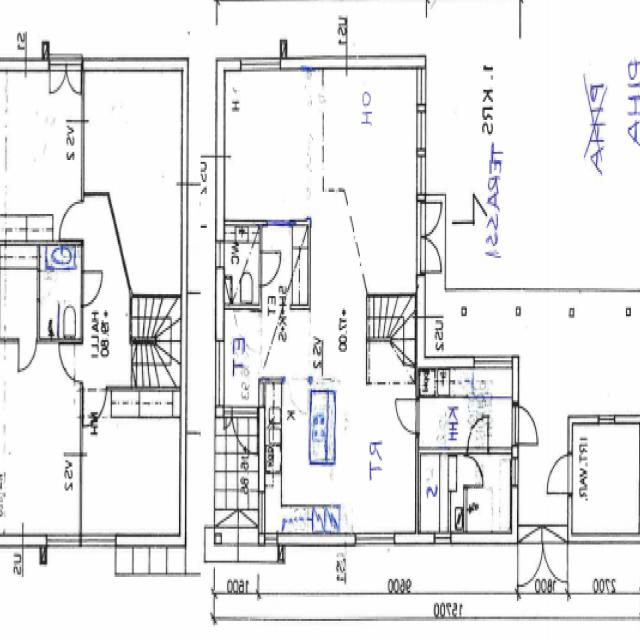door: (232, 408, 258, 460), (518, 542, 543, 586), (545, 456, 573, 494), (543, 542, 567, 586), (512, 406, 540, 443), (417, 203, 446, 238), (417, 238, 446, 272), (59, 344, 84, 382), (59, 202, 84, 239), (81, 270, 105, 306), (85, 387, 106, 428), (396, 400, 419, 433), (469, 415, 488, 453), (259, 253, 281, 285), (50, 59, 66, 96), (464, 457, 485, 485), (19, 338, 36, 370), (66, 59, 80, 96), (224, 407, 232, 431)
